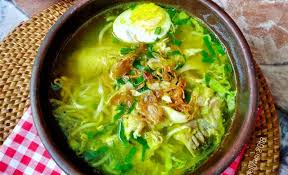soto: (31, 1, 263, 175)
